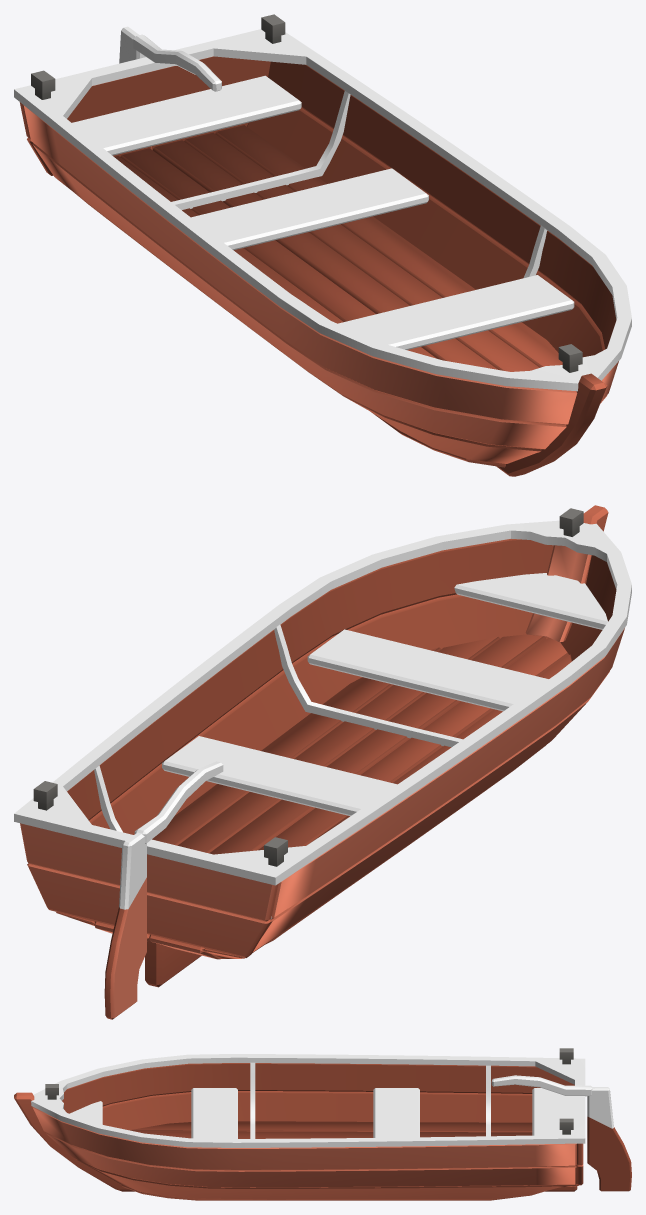
File: simple_boat.fbx
3 views of the same model, one above another, from view 1: azimuth 30°, elevation 25°; view 2: azimuth 150°, elevation 25°; view 3: azimuth 270°, elevation 25° (orthographic). The views are drawn at different scales.
Visible parts, largest first — view 1: simple_boat, simple_boat_handle; view 2: simple_boat, simple_boat_handle; view 3: simple_boat, simple_boat_handle.
Boxes of the visible parts, box(x1,y1,x2,y2) form: simple_boat: box(14, 14, 631, 476); simple_boat_handle: box(119, 26, 221, 91); simple_boat: box(14, 505, 631, 987); simple_boat_handle: box(104, 761, 223, 1019); simple_boat: box(14, 1048, 585, 1200); simple_boat_handle: box(491, 1075, 631, 1191).
Size of the model in its own units: 430 by 258 by 1261.
